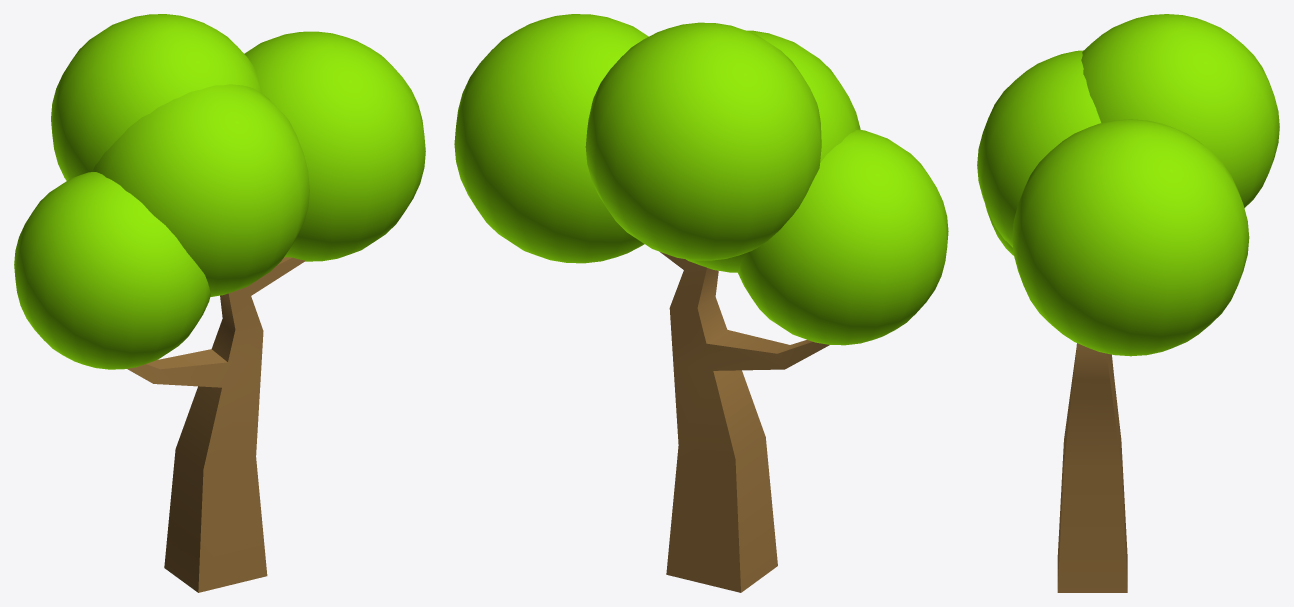
File: Tree.fbx
The picture shows the model from 3 angles, left to right: view 1: azimuth 30°, elevation 25°; view 2: azimuth 150°, elevation 25°; view 3: azimuth 270°, elevation 25°; orthographic projection. The views are drawn at different scales.
Visible parts, largest first — view 1: polySurface1, pCube1; view 2: polySurface1, pCube1; view 3: polySurface1, pCube1.
Boxes of the visible parts, x1,y1,x2,y2 form: polySurface1: (14, 14, 425, 369); pCube1: (127, 257, 305, 592); polySurface1: (454, 14, 948, 345); pCube1: (660, 252, 829, 592); polySurface1: (977, 14, 1279, 356); pCube1: (1057, 343, 1127, 592).
Size of the model in its own units: 21.96 by 27.2 by 13.78.
